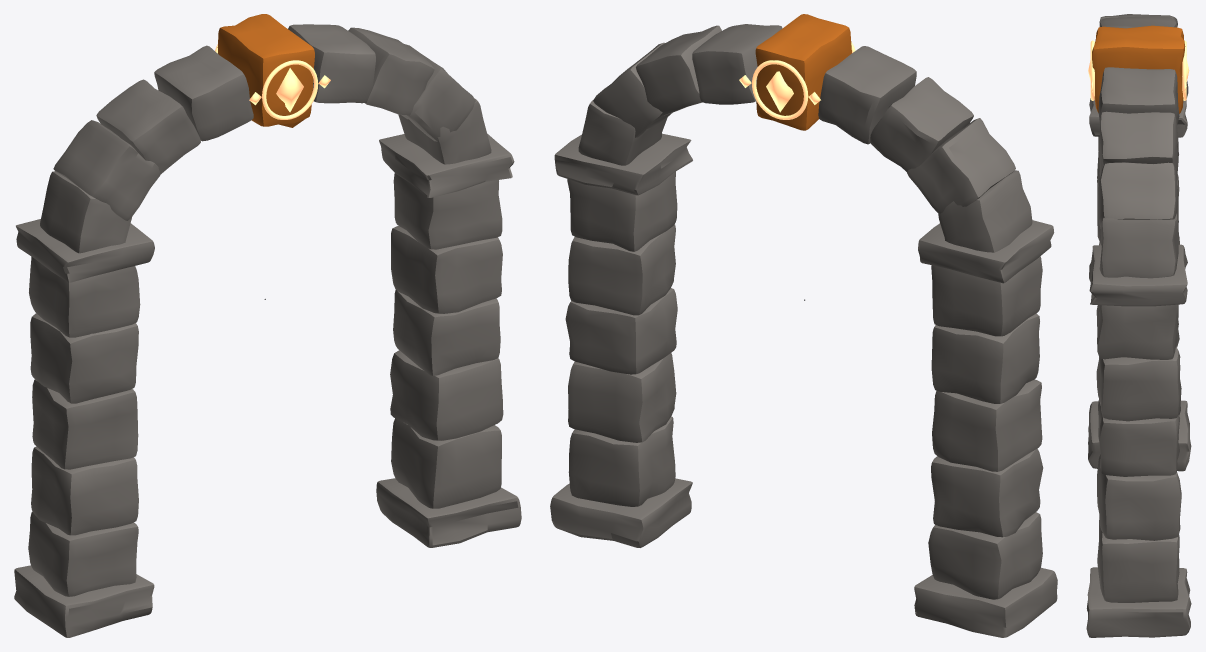
File: PortalArch.fbx
3 renders of one model, left to right at view 1: azimuth 30°, elevation 25°; view 2: azimuth 150°, elevation 25°; view 3: azimuth 270°, elevation 25°, orthographic. The views are drawn at different scales.
Visible parts, largest first — view 1: PortalArch_Stone, PortalArch_Shade, PortalArch_Glow; view 2: PortalArch_Stone, PortalArch_Shade, PortalArch_Glow; view 3: PortalArch_Stone, PortalArch_Shade, PortalArch_Glow.
Part boxes in pixels (x1,y1,x2,y2): PortalArch_Stone: (14, 24, 521, 637); PortalArch_Shade: (217, 14, 314, 127); PortalArch_Glow: (215, 44, 330, 119); PortalArch_Stone: (550, 24, 1057, 637); PortalArch_Shade: (755, 14, 851, 130); PortalArch_Glow: (739, 42, 855, 119); PortalArch_Stone: (1086, 14, 1191, 637); PortalArch_Shade: (1092, 25, 1185, 113); PortalArch_Glow: (1088, 40, 1189, 100).
Size of the model in its own units: 2123 by 2348 by 446.
